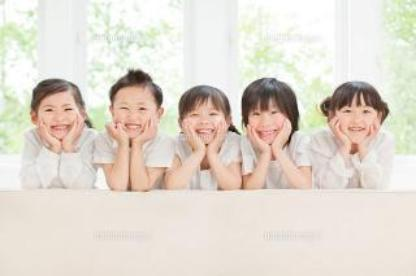person: (93, 62, 174, 197), (312, 75, 400, 196), (13, 74, 101, 194), (237, 72, 315, 200), (171, 81, 244, 201)
